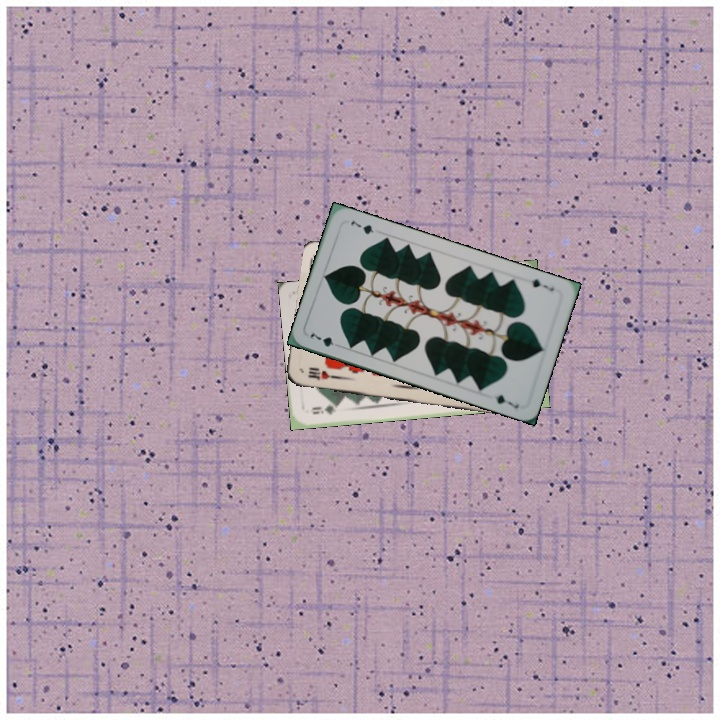G7: (306, 329, 345, 350), (527, 275, 556, 294)
G9: (308, 401, 342, 417)
H10: (304, 364, 341, 382)
